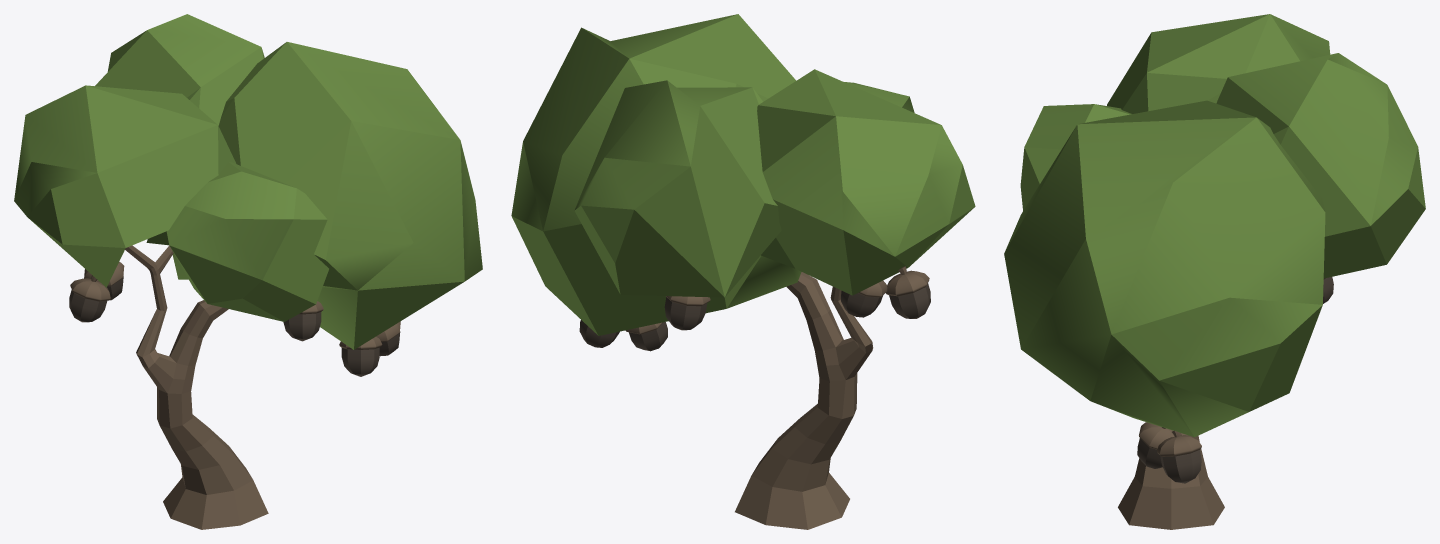
File: Oaktree1.fbx
The picture shows the model from 3 angles, left to right: view 1: azimuth 30°, elevation 25°; view 2: azimuth 150°, elevation 25°; view 3: azimuth 270°, elevation 25°; orthographic projection. The views are drawn at different scales.
Parts seen in each view (by area): view 1: group4_pCylinder1; view 2: group4_pCylinder1; view 3: group4_pCylinder1.
Part boxes in pixels (bbox=[...]): group4_pCylinder1: bbox=[14, 14, 482, 529]; group4_pCylinder1: bbox=[511, 14, 975, 529]; group4_pCylinder1: bbox=[1004, 14, 1425, 529].
Size of the model in its own units: 4.31 by 3.58 by 4.41.
